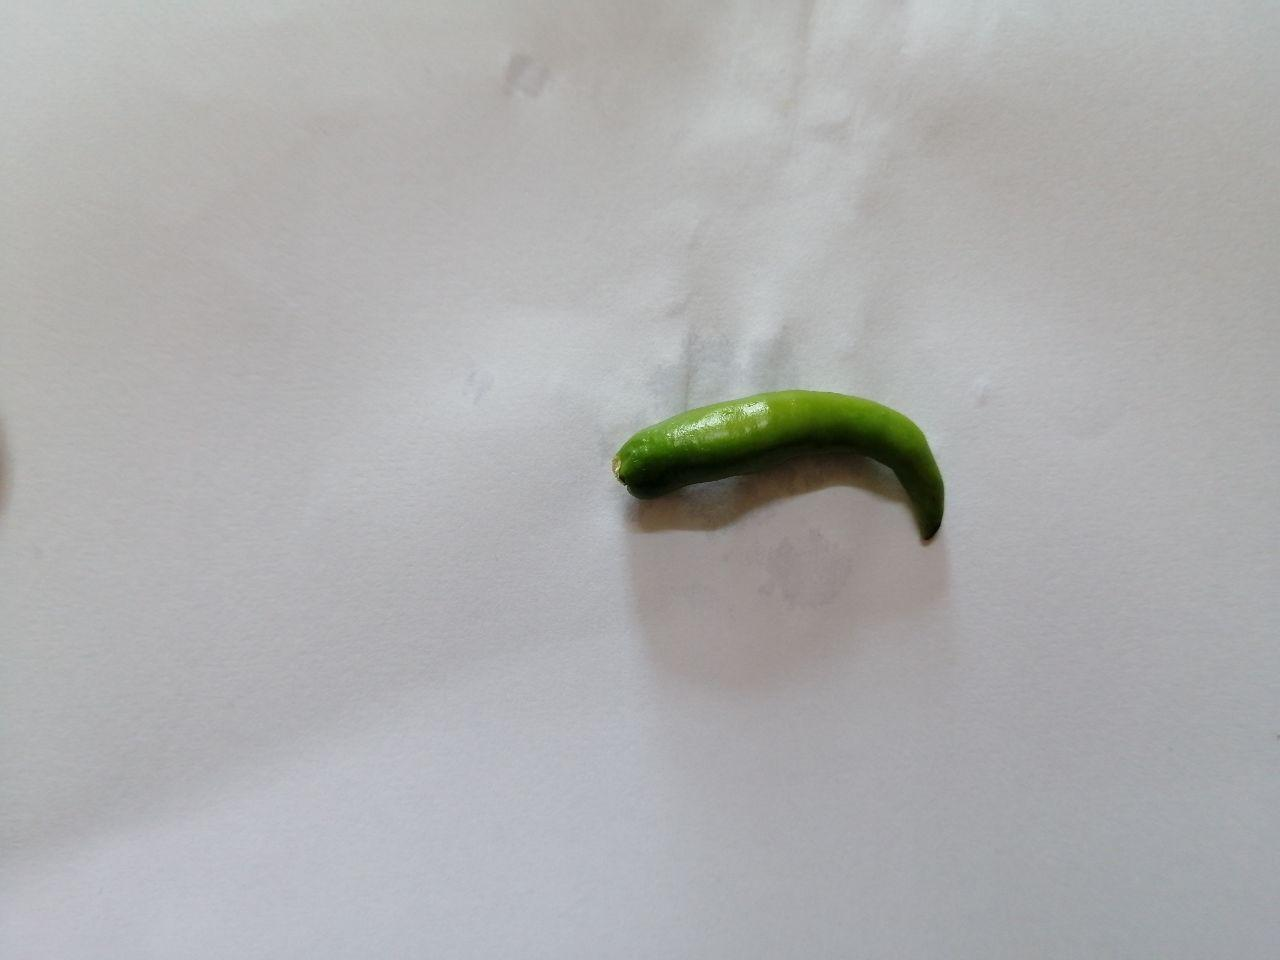lada hijau: (605, 362, 959, 569)
